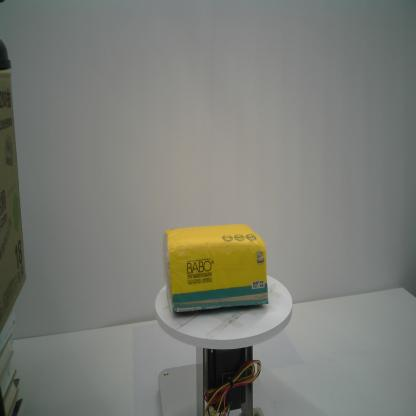Tissue: (164, 222, 268, 314)
